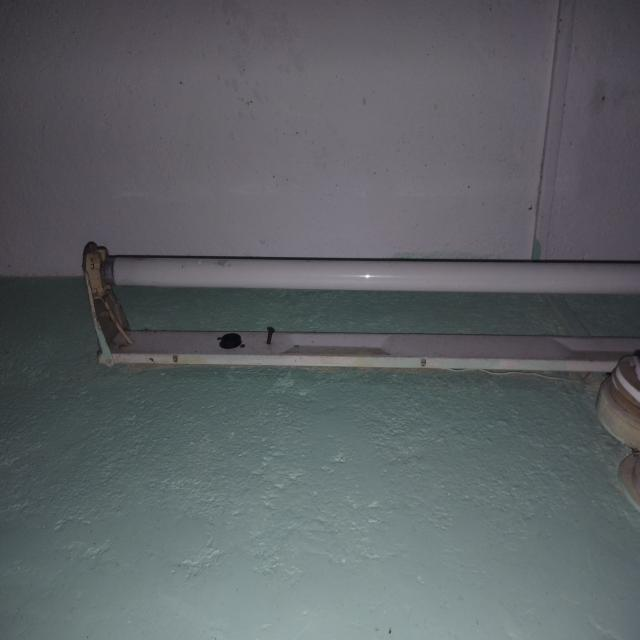tubelight_off: (85, 242, 640, 373)
